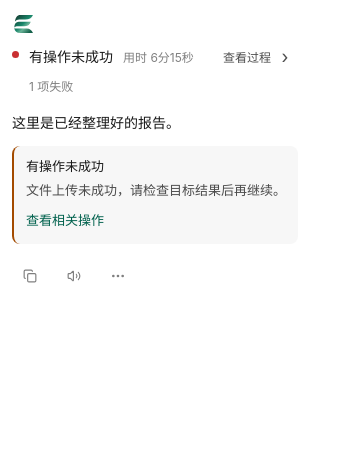
compact process and actionable result notices › 默认入口中性且只显示耗时，失败计数和原始原因仅展开可见
This screenshot has width=362, height=475.
expect the message shows "文件上传未成功": met, box [26,182,286,198]
What coordinates should you click on to do the following:
click the button "查看过程 ›"
I would click on:
 (258, 57)
Its box is [219,42,298,72].
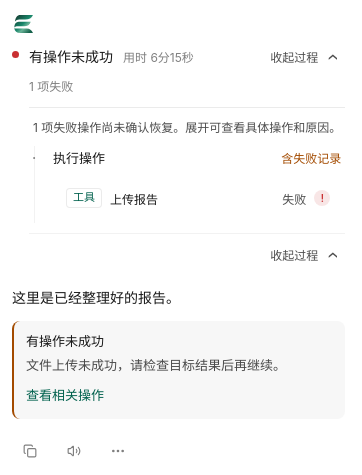
expect the text "1 项失败操作尚未确认恢复。展开可查看具体操作和原因。" is shown: met, box [33,118,341,138]
